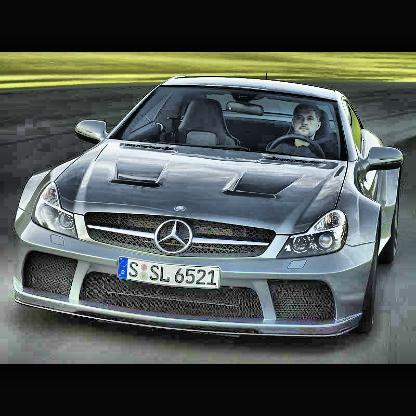Mercedes-Benz SL-Class Coupe 2009: (14, 77, 404, 341)
